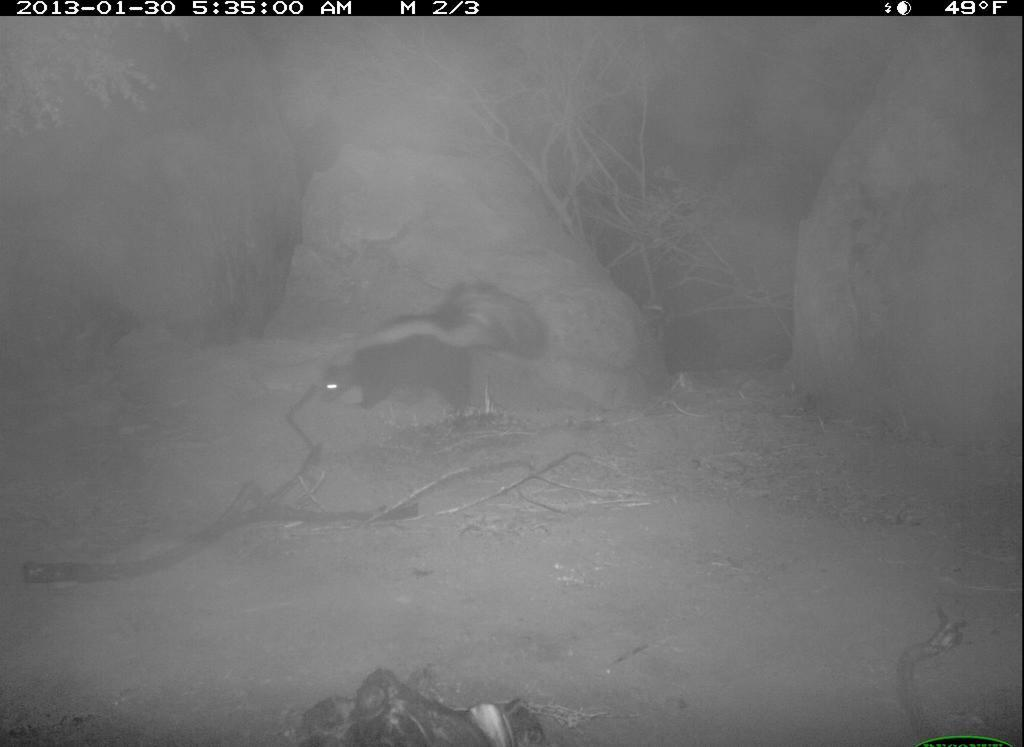skunk: (312, 277, 557, 428)
